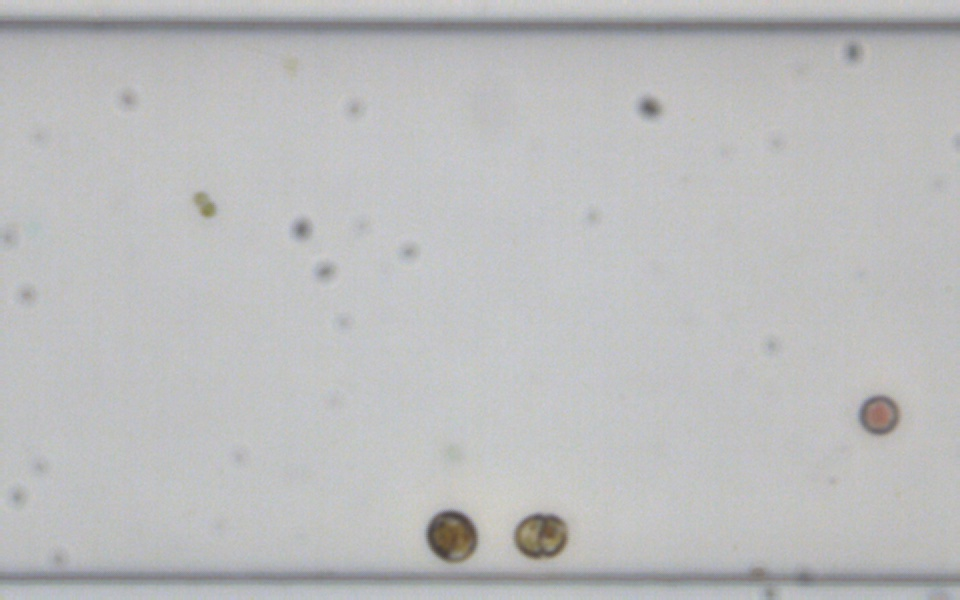Chlorella: (199, 199, 217, 218), (192, 191, 208, 206)
Effrenium: (421, 505, 483, 566), (509, 510, 569, 560)
Porphyridium: (854, 391, 902, 436)
